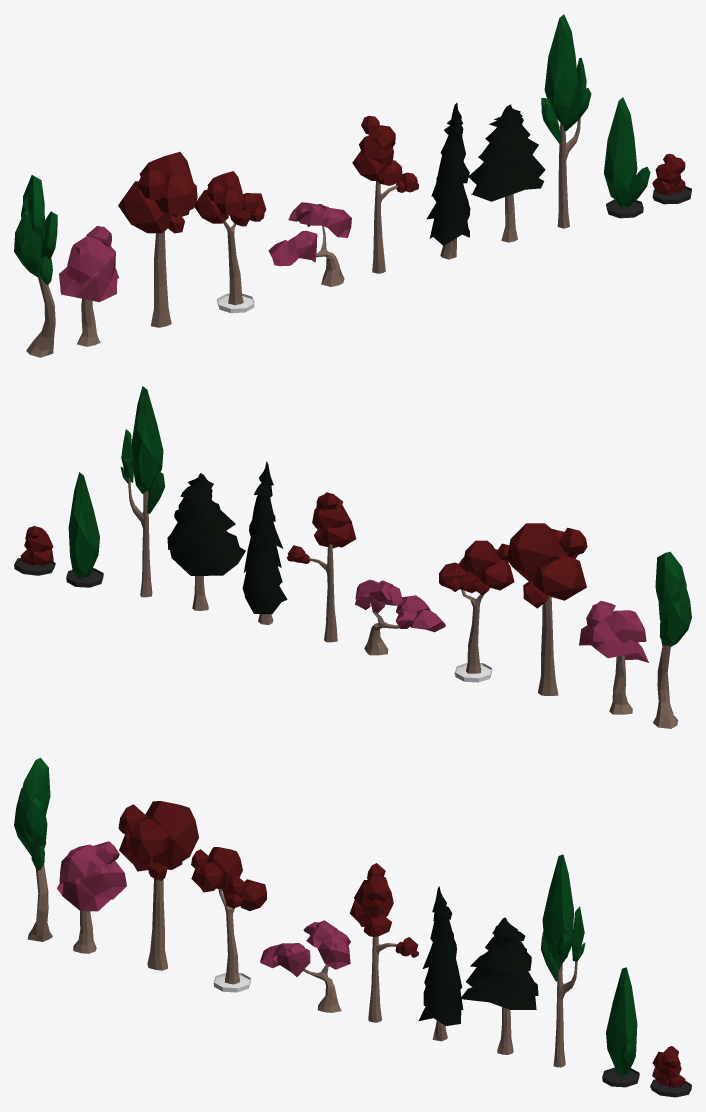
The model's file is trees_display.fbx.
The picture shows the model from 3 angles, top to bottom: view 1: azimuth 30°, elevation 25°; view 2: azimuth 150°, elevation 25°; view 3: azimuth 330°, elevation 25°; orthographic projection.
Parts seen in each view (by area): view 1: tree_006 (×2), tree_003, tree_008, tree_001, tree_002, tree_007, bush_001, tree_004, tallboy_001, tree_009, bush_002; view 2: tree_003, tree_006 (×2), tree_008, tree_007, tree_002, tree_001, tree_004, bush_001, tallboy_001, bush_002, trunk_008, tree_009; view 3: tree_006 (×2), tree_003, tree_008, tree_002, tree_007, tree_004, tree_001, tree_009, bush_001, bush_002, tallboy_001.
Boxes of the visible parts, x1,y1,x2,y2 form: tree_006 (×2): [268, 115, 418, 286]; tree_003: [118, 152, 197, 327]; tree_008: [469, 104, 545, 242]; tree_001: [14, 175, 57, 357]; tree_002: [59, 225, 118, 346]; tree_007: [426, 102, 470, 259]; bush_001: [604, 97, 650, 218]; tree_004: [194, 171, 266, 305]; tallboy_001: [544, 14, 577, 125]; tree_009: [545, 14, 591, 228]; bush_002: [652, 153, 691, 204]; tree_003: [507, 523, 587, 695]; tree_006 (×2): [286, 492, 445, 655]; tree_008: [167, 473, 245, 610]; tree_007: [242, 461, 287, 624]; tree_002: [579, 601, 648, 714]; tree_001: [653, 551, 691, 728]; tree_004: [439, 540, 514, 673]; bush_001: [66, 472, 103, 587]; tallboy_001: [136, 386, 163, 493]; bush_002: [14, 526, 55, 575]; trunk_008: [128, 477, 152, 597]; tree_009: [120, 386, 160, 593]; tree_006 (×2): [260, 863, 418, 1022]; tree_003: [118, 801, 198, 970]; tree_008: [460, 917, 538, 1054]; tree_002: [57, 841, 126, 953]; tree_007: [418, 886, 463, 1041]; tree_004: [191, 847, 266, 984]; tree_001: [14, 757, 52, 941]; tree_009: [542, 855, 585, 1067]; bush_001: [602, 967, 639, 1087]; bush_002: [650, 1046, 691, 1097]; tallboy_001: [542, 854, 563, 961].
Bounding box in the file's own units: 7411 × 2201 × 719.
